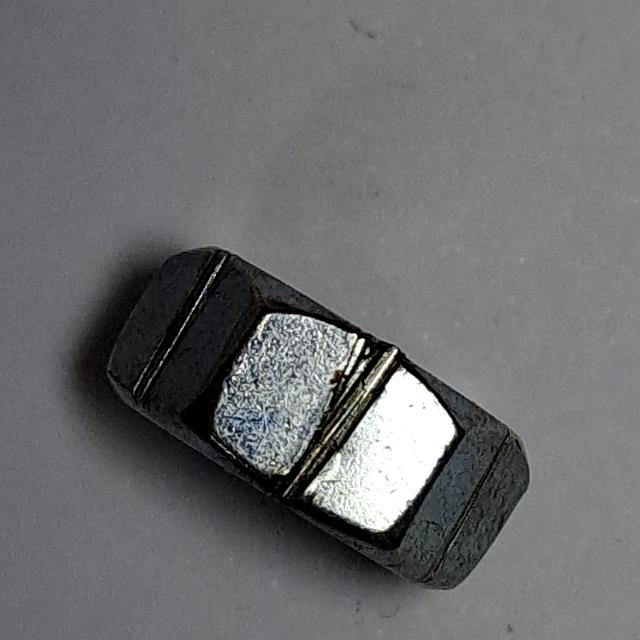Side_Scratches: (94, 237, 546, 602)
